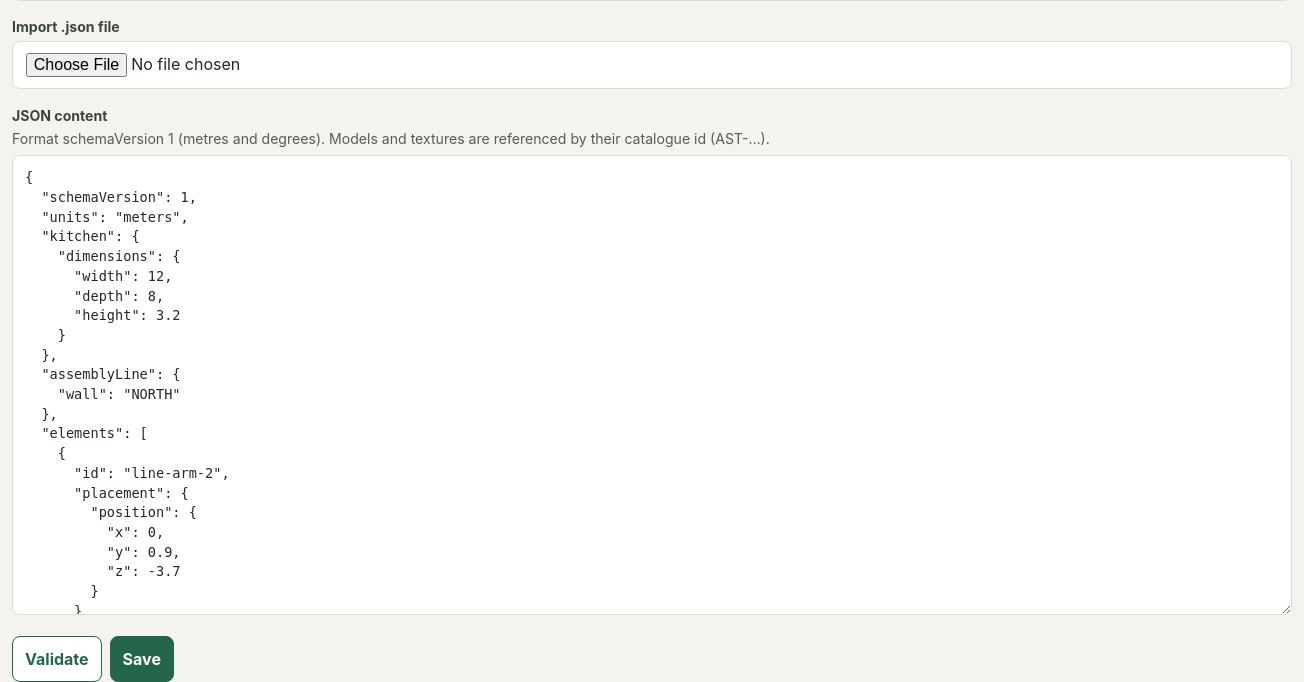
WEB06 KitchenConfigurationEditorPage › FT04 - a 422 lists every issue and keeps the text
(page scrolled)
Click the button "Save".
click(142, 659)  # box [110, 636, 174, 681]
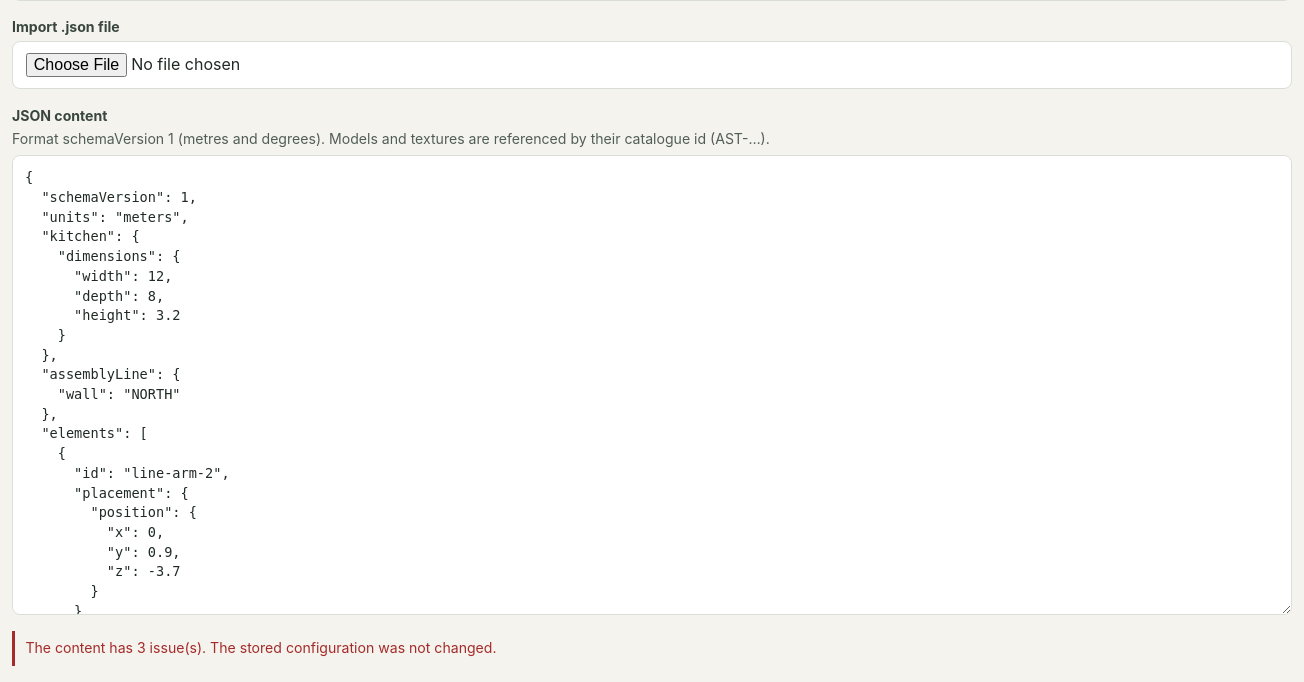
Expected: the text "The stored configuration was not changed" is shown, [25, 639, 496, 656]
